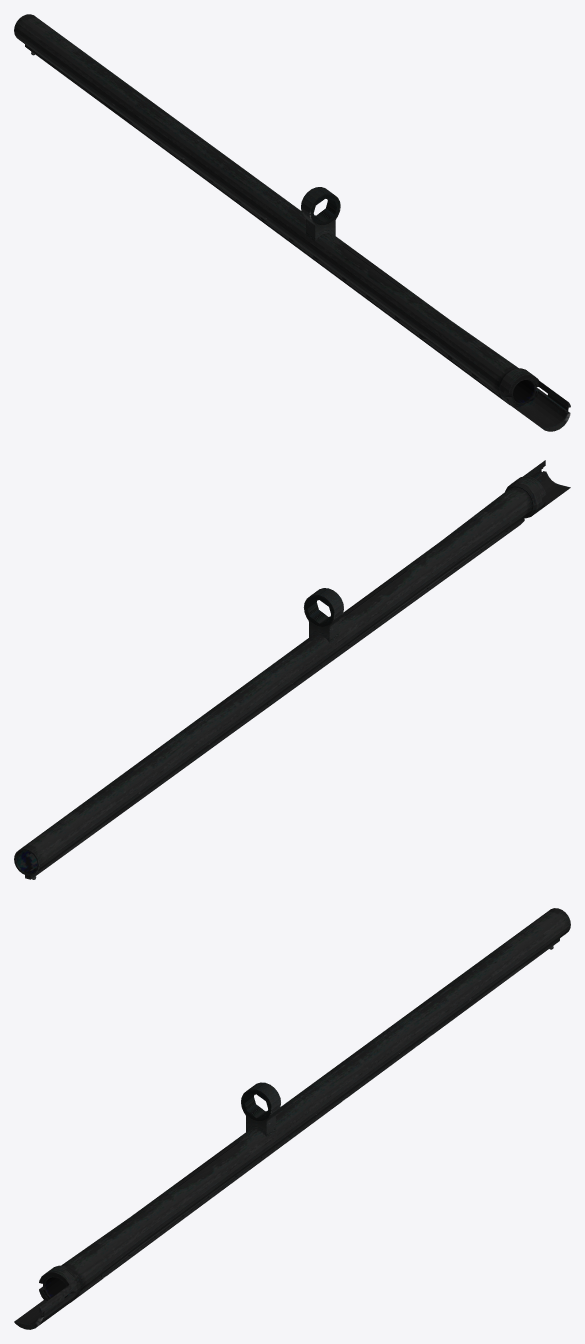
The picture shows the model from 3 angles, top to bottom: view 1: azimuth 30°, elevation 25°; view 2: azimuth 150°, elevation 25°; view 3: azimuth 330°, elevation 25°; orthographic projection.
Visible parts, largest first — view 1: TW_5608379a4bdc2d26448b4569_PZ_Import; view 2: TW_5608379a4bdc2d26448b4569_PZ_Import; view 3: TW_5608379a4bdc2d26448b4569_PZ_Import.
Part boxes in pixels (left/top/right/bottom): TW_5608379a4bdc2d26448b4569_PZ_Import: left=14, top=14, right=570, bottom=431; TW_5608379a4bdc2d26448b4569_PZ_Import: left=14, top=460, right=570, bottom=879; TW_5608379a4bdc2d26448b4569_PZ_Import: left=14, top=908, right=570, bottom=1329.
Bounding box in the file's own units: 0.0167 × 0.4596 × 0.0359.
1 material, 1 textured.
